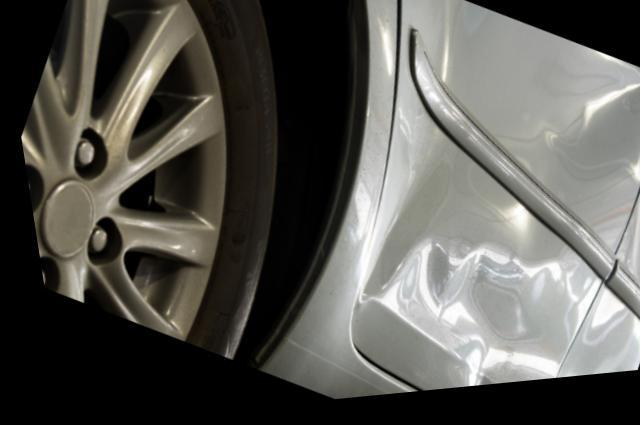dent: (364, 0, 640, 395), (623, 183, 640, 301)
